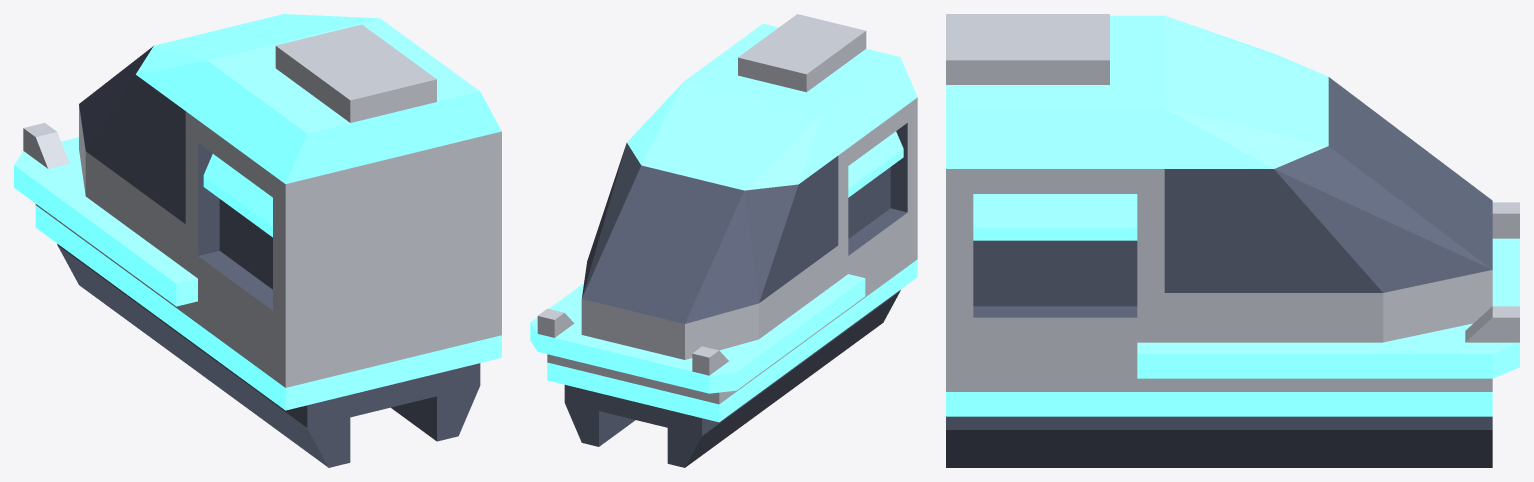
The model's file is monorail_trainFront.glb.
The picture shows the model from 3 angles, left to right: view 1: azimuth 30°, elevation 25°; view 2: azimuth 150°, elevation 25°; view 3: azimuth 270°, elevation 25°; orthographic projection. The views are drawn at different scales.
Visible parts, largest first — view 1: monorail_trainFront; view 2: monorail_trainFront; view 3: monorail_trainFront.
Part boxes in pixels (x1,y1,x2,y2): monorail_trainFront: (14,14,501,467); monorail_trainFront: (530,14,917,467); monorail_trainFront: (946,14,1519,467).
Size of the model in its own units: 0.6 by 0.8 by 1.05.
